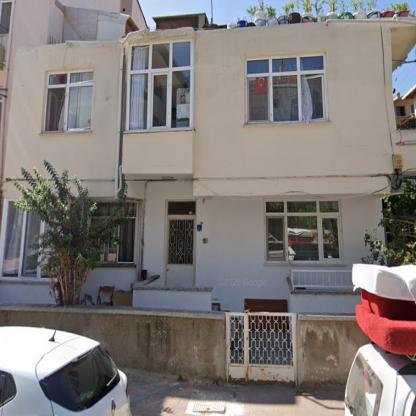door: (164, 216, 195, 286)
window: (125, 39, 194, 131), (243, 53, 328, 125), (263, 198, 344, 266), (2, 198, 48, 279), (44, 69, 94, 131), (166, 200, 194, 216), (0, 2, 11, 34)
